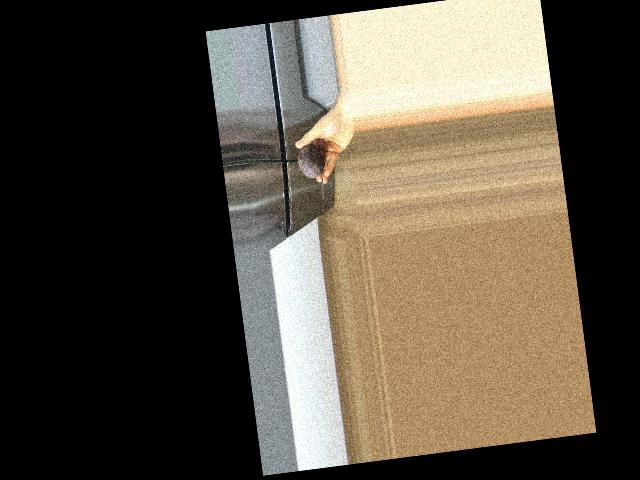beet: (296, 142, 329, 202)
